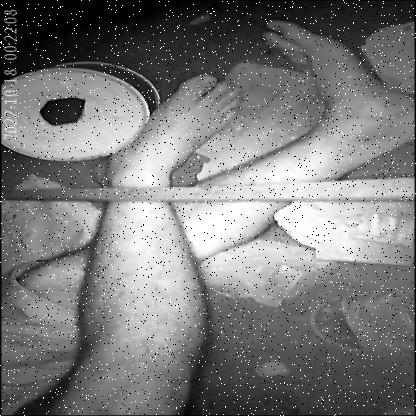leg: (39, 63, 255, 416), (188, 10, 416, 266)
